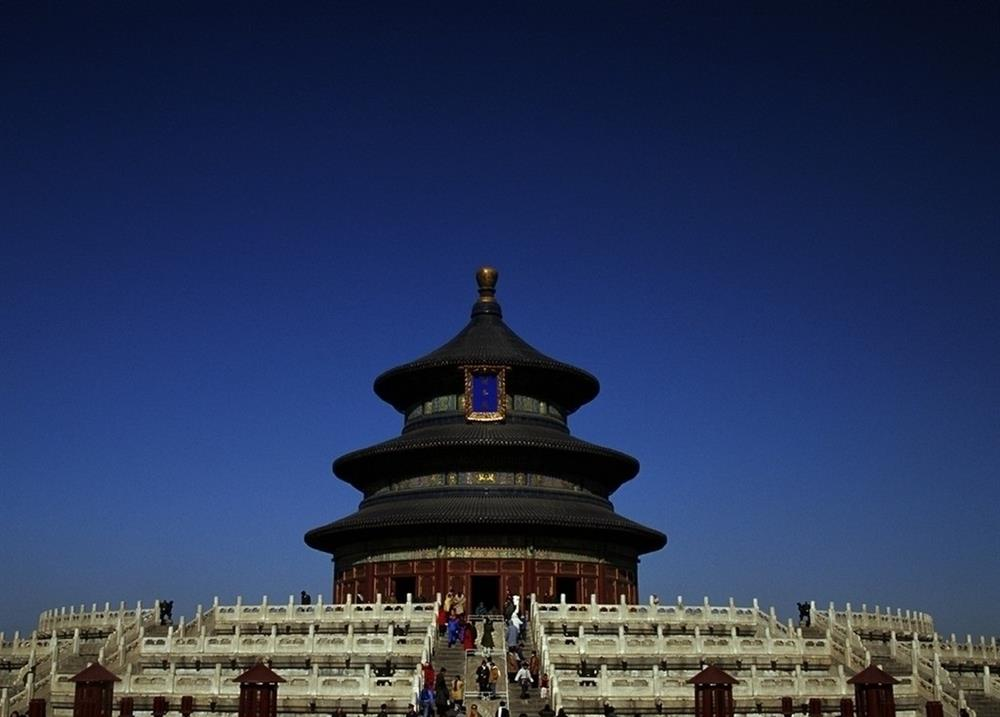Temple_of_Heaven: (301, 262, 673, 607)
